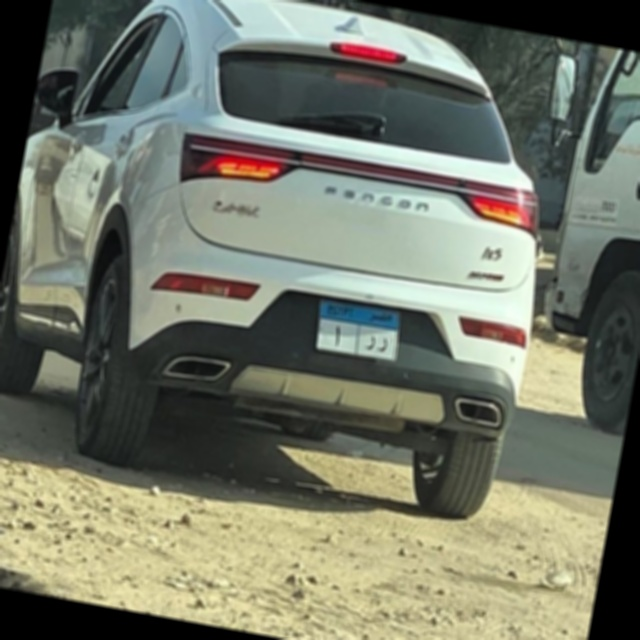License Plate: (313, 295, 406, 366)
